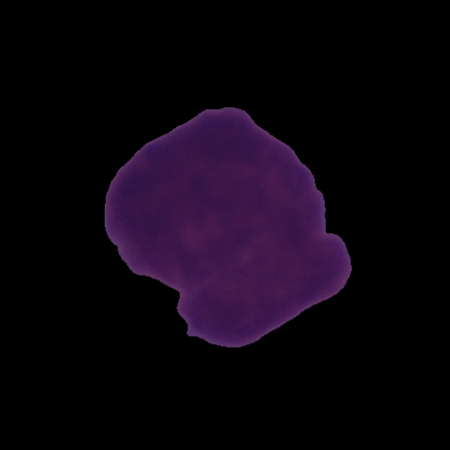ALL: (100, 104, 355, 351)
